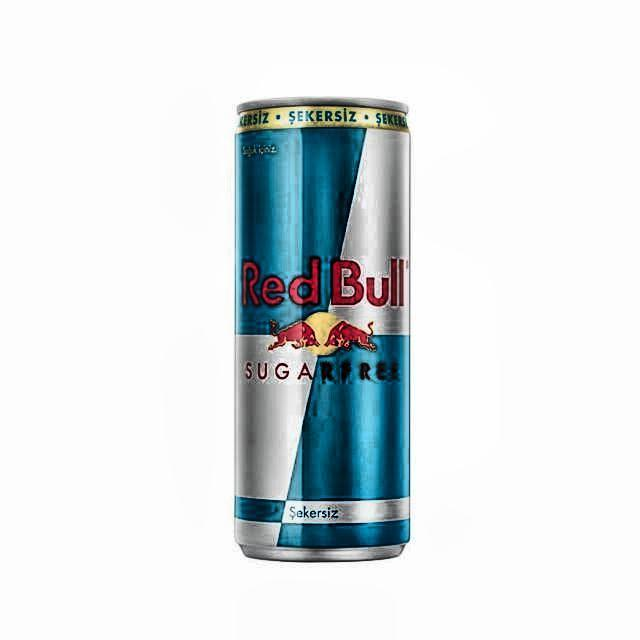metal: (229, 97, 415, 566)
